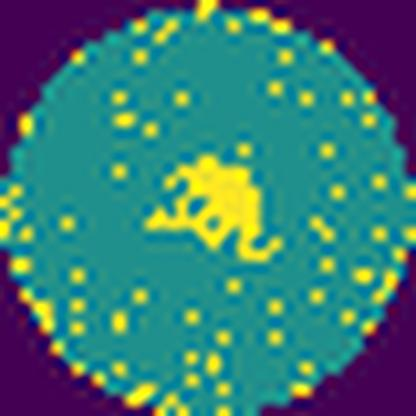Center: (143, 154, 283, 264)
